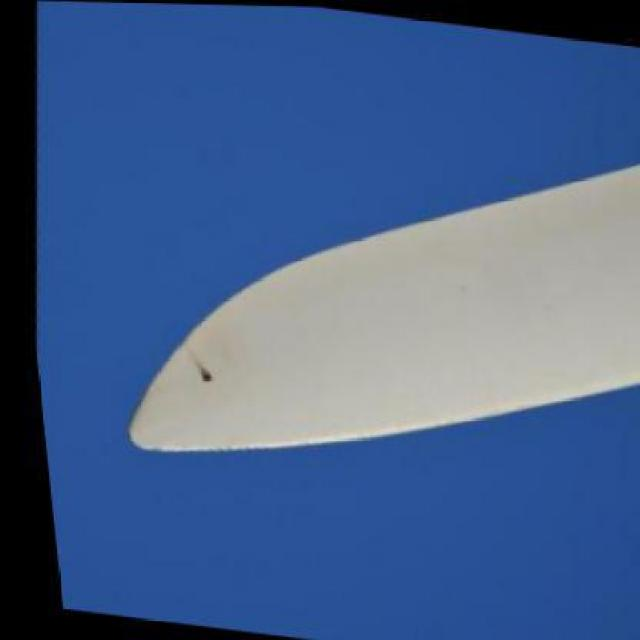Burn Mark: (175, 349, 222, 393)
